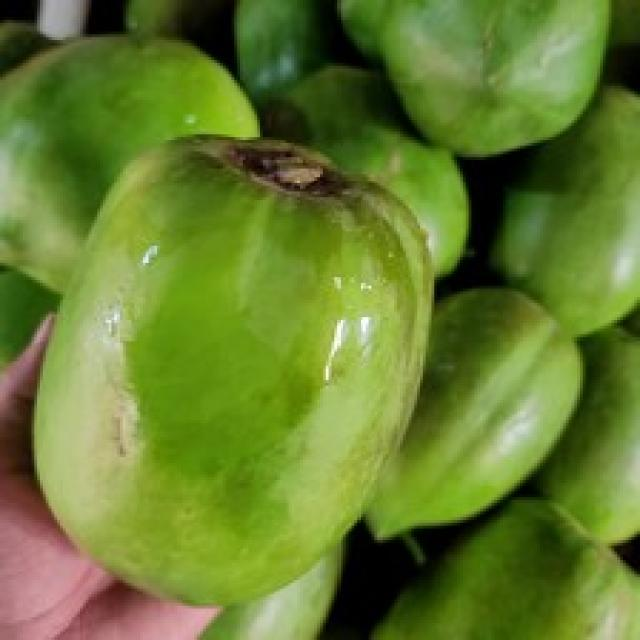Pepaya unrippen: (29, 133, 402, 613)
